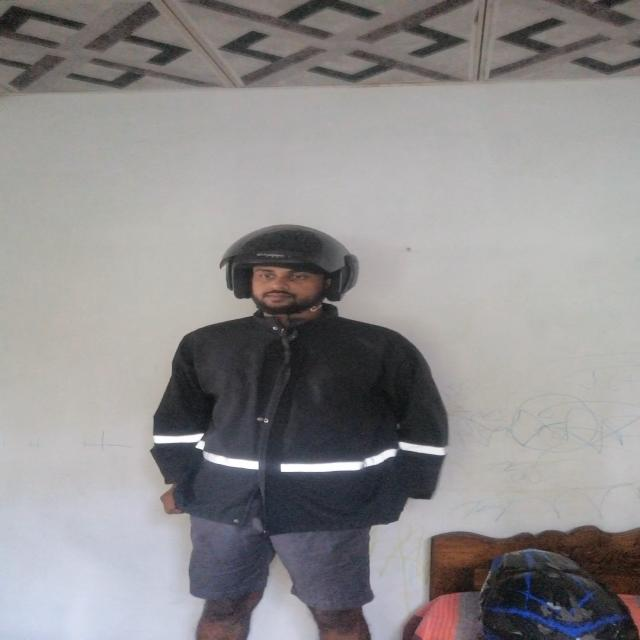Helmet_Wearer: (206, 220, 382, 326)
Jacket_Wearer: (150, 304, 453, 528)
Person: (144, 221, 477, 616)
